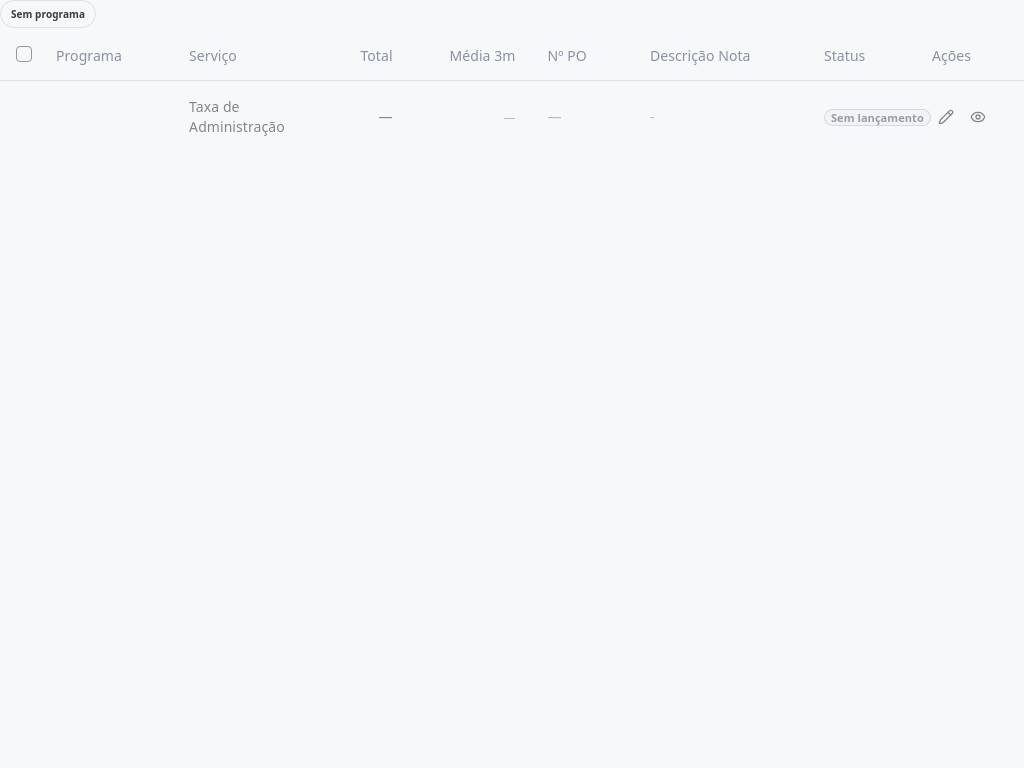
Test: tabela de lançamentos com serviço sem programa › abre o modal de lançamento
Click the button titled "Lançar". click: (946, 116)
box: left=932, top=102, right=960, bottom=130
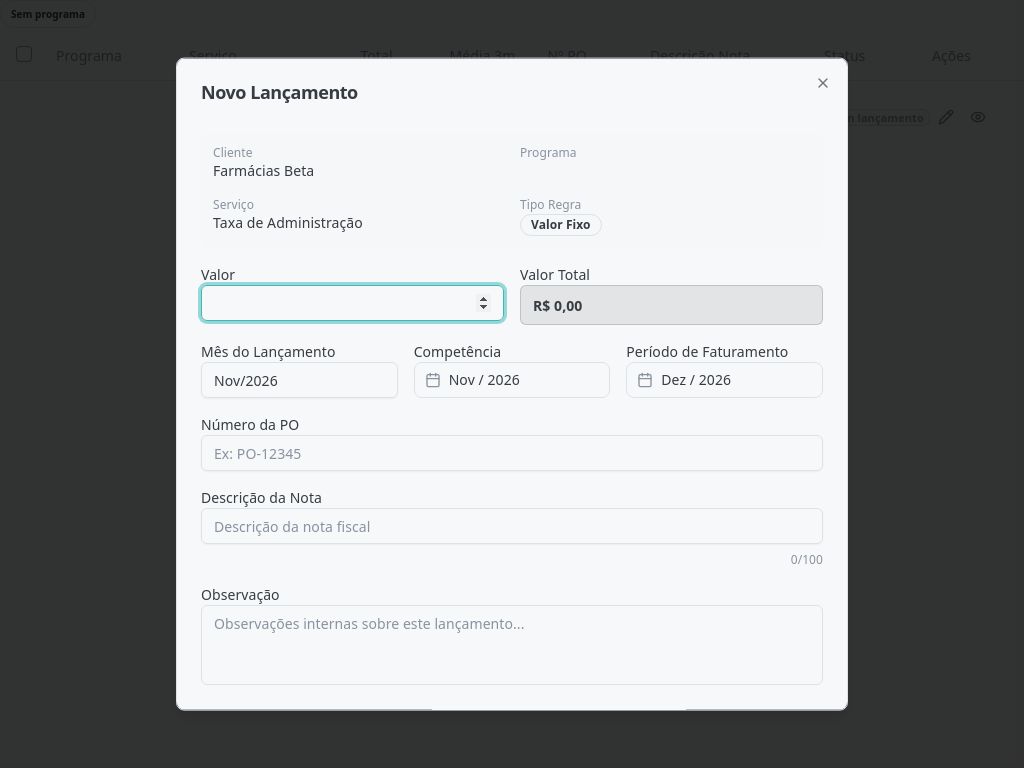
Check: the heading "Novo Lançamento" is shown, box left=201, top=80, right=358, bottom=104
